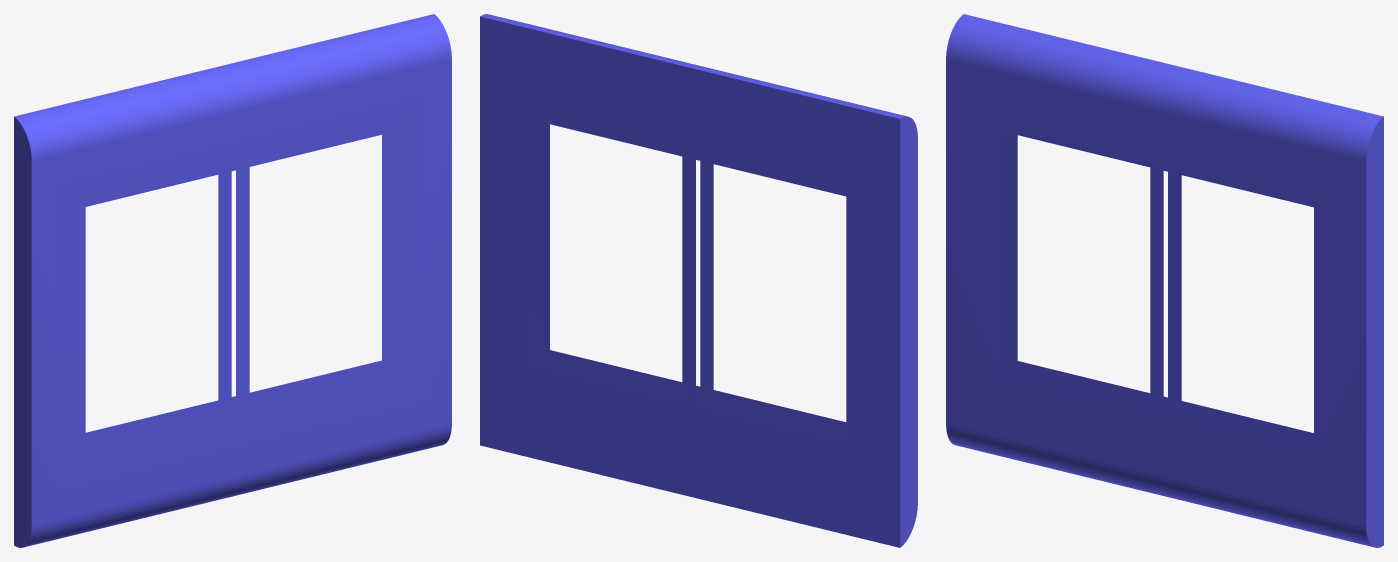
Rendered from original-12.obj.
3 renders of one model, left to right at view 1: azimuth 30°, elevation 25°; view 2: azimuth 150°, elevation 25°; view 3: azimuth 330°, elevation 25°, orthographic.
Visible parts, largest first — view 1: #ID79; view 2: #ID79; view 3: #ID79.
Boxes of the visible parts, left/top/right/bottom form: #ID79: left=14, top=14, right=451, bottom=547; #ID79: left=480, top=14, right=917, bottom=547; #ID79: left=946, top=14, right=1383, bottom=547.
Size of the model in its own units: 1.46 by 1.43 by 0.107.
